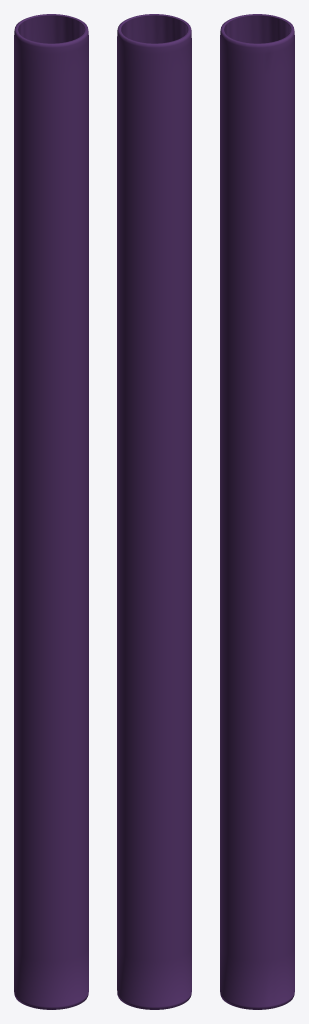
File: ong_hut.fbx
3 renders of one model, left to right at view 1: azimuth 90°, elevation 25°; view 2: azimuth 150°, elevation 25°; view 3: azimuth 270°, elevation 25°, orthographic.
Parts seen in each view (by area): view 1: straw_01_Boba_Straw_01_0; view 2: straw_01_Boba_Straw_01_0; view 3: straw_01_Boba_Straw_01_0.
Part boxes in pixels (x1,y1,x2,y2): straw_01_Boba_Straw_01_0: (14,14,88,1009); straw_01_Boba_Straw_01_0: (117,14,191,1009); straw_01_Boba_Straw_01_0: (220,14,294,1009).
Size of the model in its own units: 0.1326 by 1.89 by 0.1326.
